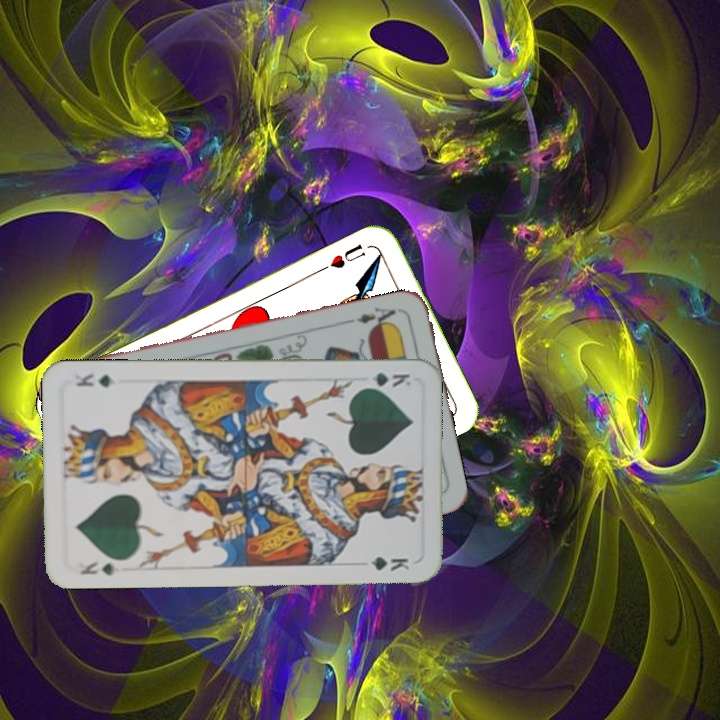EA: (345, 303, 399, 332)
GK: (357, 368, 414, 391), (76, 558, 118, 578)
HU: (318, 240, 368, 273)
